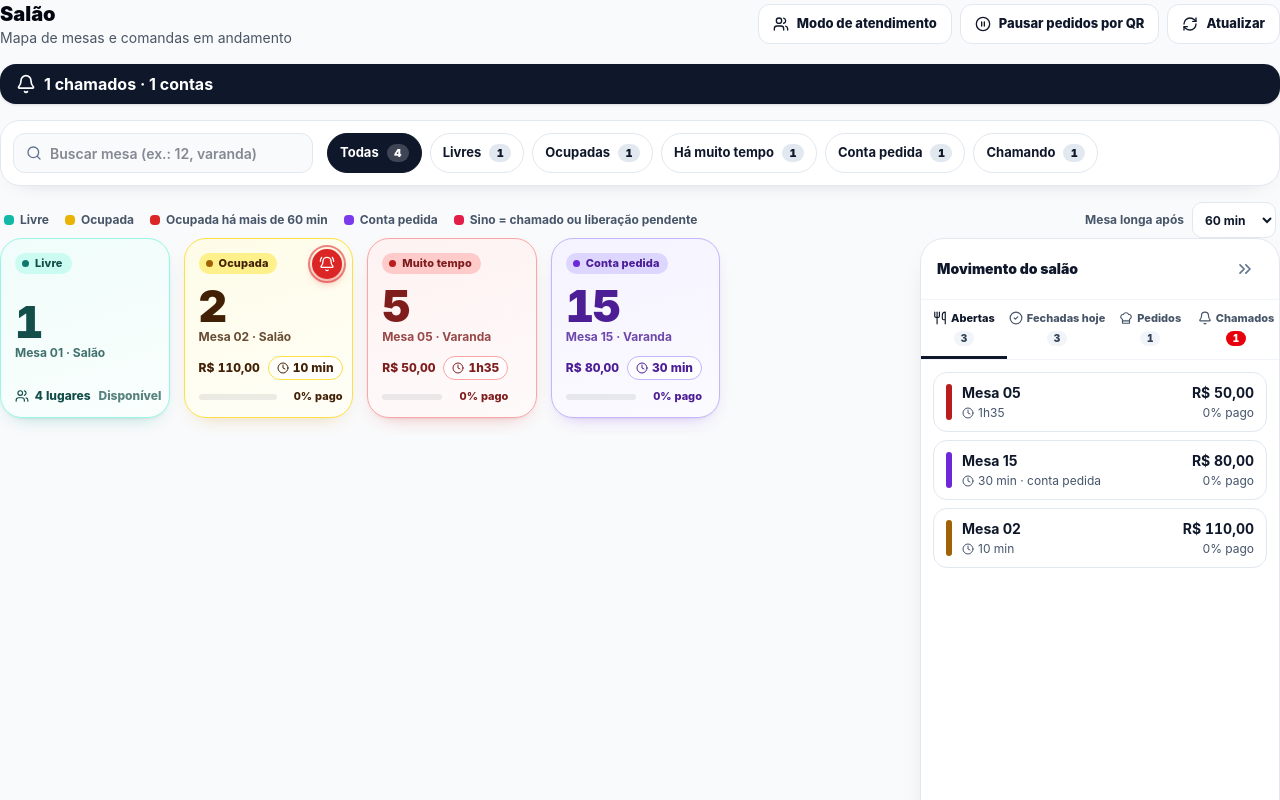
Test: SalonPage — mapa de mesas › depois da migração › mostra a pausa de QR para dono/gerente e o PIX no Fechar conta
This screenshot has width=1280, height=800.
Expected: the button "Pausar pedidos por QR" is shown, [960, 4, 1160, 44]
What coordinates should you click on to do the following:
click the button with test id "salon-table-t2"
I would click on:
 (268, 328)
Its box is [184, 238, 353, 418].
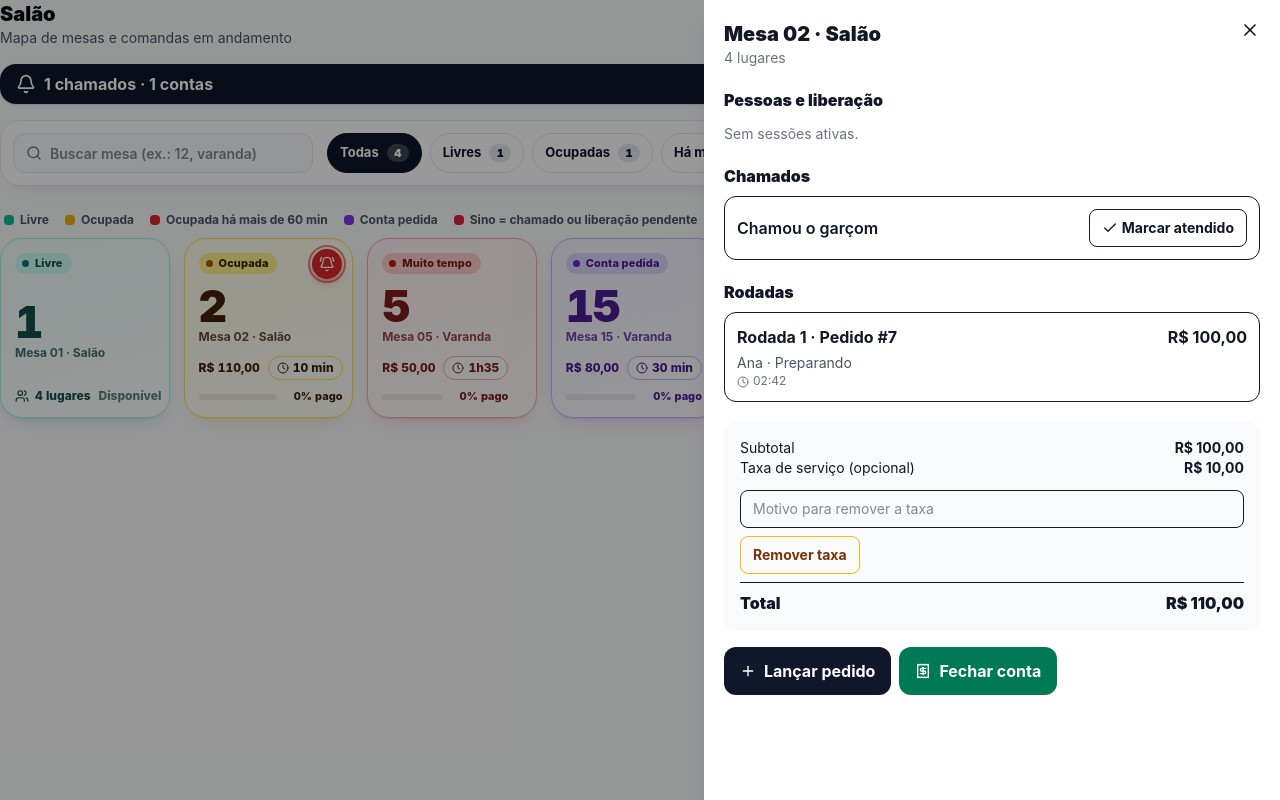
What coordinates should you click on to do the following:
click the button "Fechar conta"
I would click on:
 (978, 671)
Its box is [899, 647, 1057, 695].
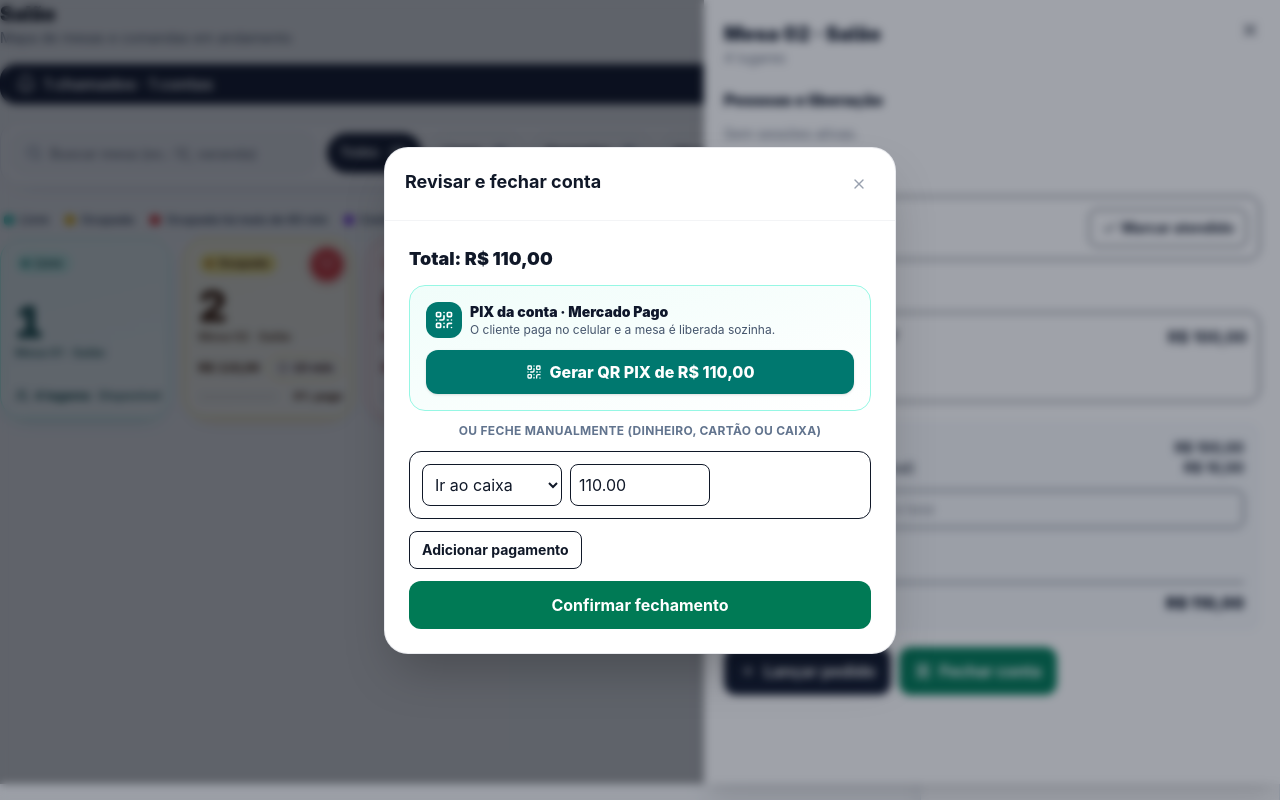
Expected: the element with test id "tab-pix-panel" is shown, [409, 284, 871, 410]
Expected: the button "Confirmar fechamento" is enabled, [409, 580, 871, 628]
